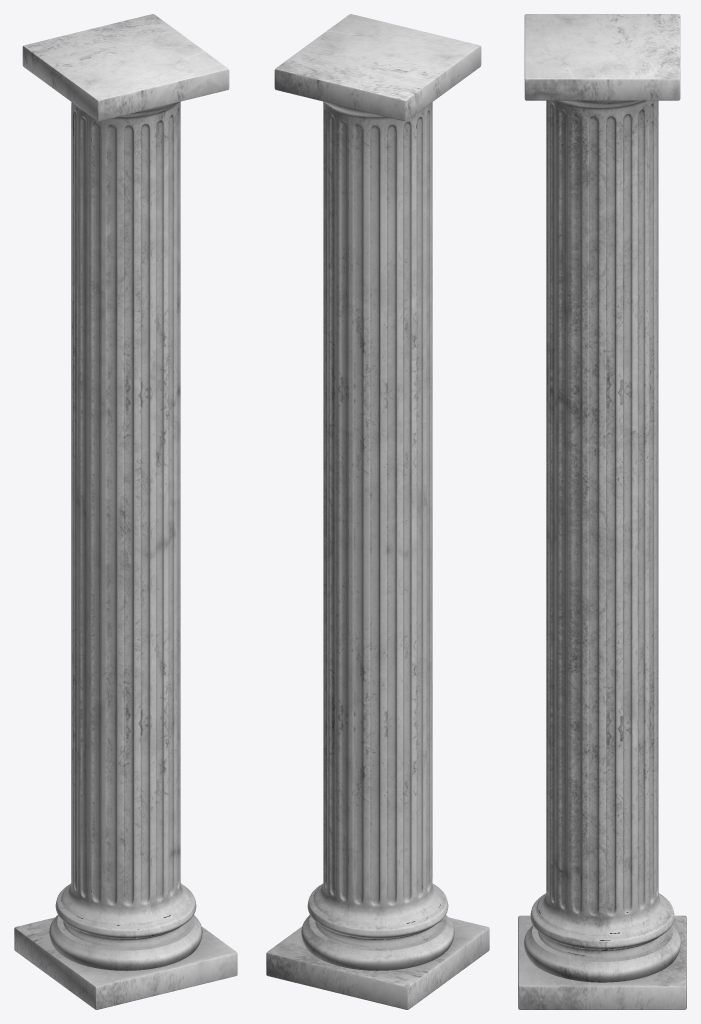
File: classical_marble_column.glb
3 views of the same model, side by side, from view 1: azimuth 30°, elevation 25°; view 2: azimuth 150°, elevation 25°; view 3: azimuth 270°, elevation 25° (orthographic). The views are drawn at different scales.
Parts seen in each view (by area): view 1: MarbleColumn_0; view 2: MarbleColumn_0; view 3: MarbleColumn_0.
Part boxes in pixels (x1,y1,x2,y2): MarbleColumn_0: [14, 14, 237, 1009]; MarbleColumn_0: [266, 14, 489, 1009]; MarbleColumn_0: [518, 14, 686, 1009].
Size of the model in its own units: 1.32 by 8.02 by 1.32.
1 material, 1 textured.
